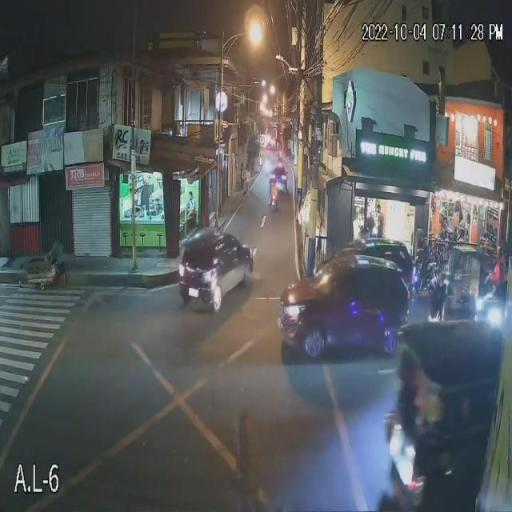helmet: (271, 179, 283, 190)
motorcycle: (265, 194, 280, 212)
rider: (270, 186, 280, 202)
